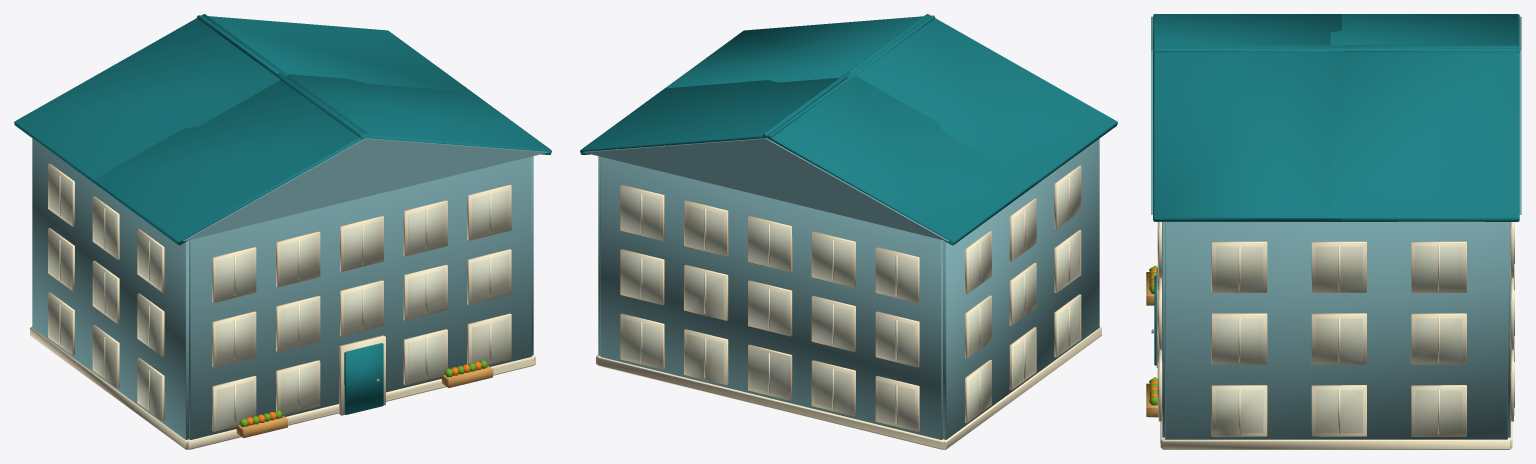
Rendered from project_5-low.glb.
3 renders of one model, left to right at view 1: azimuth 30°, elevation 25°; view 2: azimuth 150°, elevation 25°; view 3: azimuth 270°, elevation 25°, orthographic. The views are drawn at different scales.
Parts seen in each view (by area): view 1: wall.013, roof half.014, foundation trim.013, roof half.012, wall.014, blue window.063, foundation trim.014, painted gable.007, blue window.078, door.004, door frame.003, planter.006 (+2 smaller); view 2: wall.012, foundation trim.012, roof half.012, roof half.014, blue window.048, wall.014, foundation trim.014, painted gable.006, blue window.078, wall.015; view 3: wall.015, roof half.012, roof half.014, foundation trim.015, blue window.087, foundation trim.013, foundation trim.012, wall.012, wall.013, painted gable.006, painted gable.007.
Boxes of the visible parts, x1,y1,x2,y2 form: wall.013: (189,156,531,439); roof half.014: (93,73,551,245); foundation trim.013: (188,185,534,449); roof half.012: (14,14,471,186); wall.014: (32,138,188,439); blue window.063: (217,190,508,427); foundation trim.014: (30,163,188,449); painted gable.007: (183,138,547,241); blue window.078: (49,169,159,416); door.004: (344,343,383,414); door frame.003: (339,335,385,415); planter.006: (236,415,287,438); wall.012: (600,156,942,439); foundation trim.012: (597,185,943,449); roof half.012: (580,72,1038,245); roof half.014: (665,14,1117,186); blue window.048: (624,190,914,427); wall.014: (942,138,1099,439); foundation trim.014: (943,165,1101,449); painted gable.006: (584,138,948,241); blue window.078: (969,171,1079,417); wall.015: (598,156,600,355); wall.015: (1165,221,1507,439); roof half.012: (1330,14,1519,221); roof half.014: (1153,14,1342,221); foundation trim.015: (1162,241,1510,449); blue window.087: (1216,247,1461,432); foundation trim.013: (1157,222,1164,448); foundation trim.012: (1508,222,1514,448); wall.012: (1507,222,1510,437); wall.013: (1162,222,1164,437); painted gable.006: (1519,16,1521,214); painted gable.007: (1151,16,1153,214).
Bounding box in the file's own units: 16.44 × 11.63 × 12.8.
